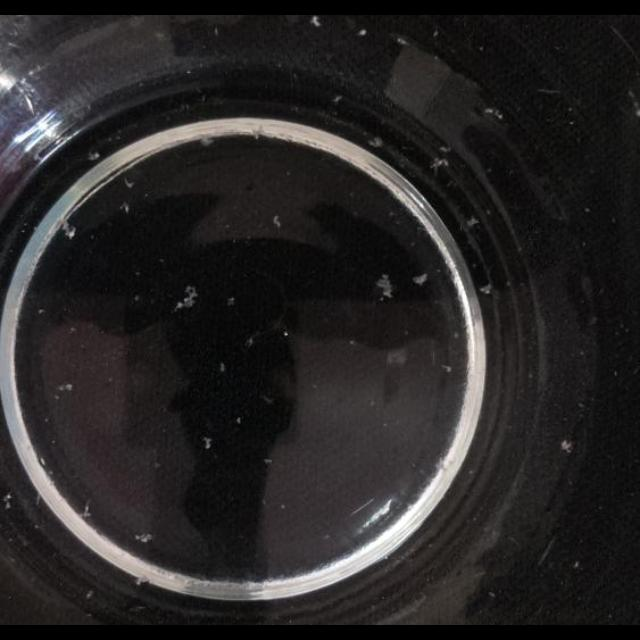Fibre: (174, 285, 200, 311), (376, 276, 396, 300), (483, 106, 503, 120), (431, 158, 449, 172), (62, 222, 76, 238), (368, 136, 384, 148), (82, 502, 92, 518), (310, 16, 322, 28), (200, 137, 214, 147), (478, 284, 492, 294), (272, 215, 280, 229)
microbeads: (412, 272, 426, 286), (134, 534, 152, 544), (561, 439, 573, 453), (57, 382, 73, 392), (466, 216, 479, 228), (119, 201, 129, 213), (87, 150, 99, 160), (202, 437, 212, 449), (124, 178, 134, 188), (441, 363, 451, 372), (332, 95, 342, 104), (228, 296, 236, 306), (357, 29, 367, 37), (220, 362, 227, 372), (434, 28, 441, 38), (37, 308, 45, 316), (584, 206, 592, 214), (132, 295, 140, 303), (572, 561, 580, 569), (40, 456, 46, 466), (348, 339, 356, 346), (236, 416, 242, 424), (323, 534, 331, 540), (264, 457, 272, 463), (280, 502, 286, 510)
